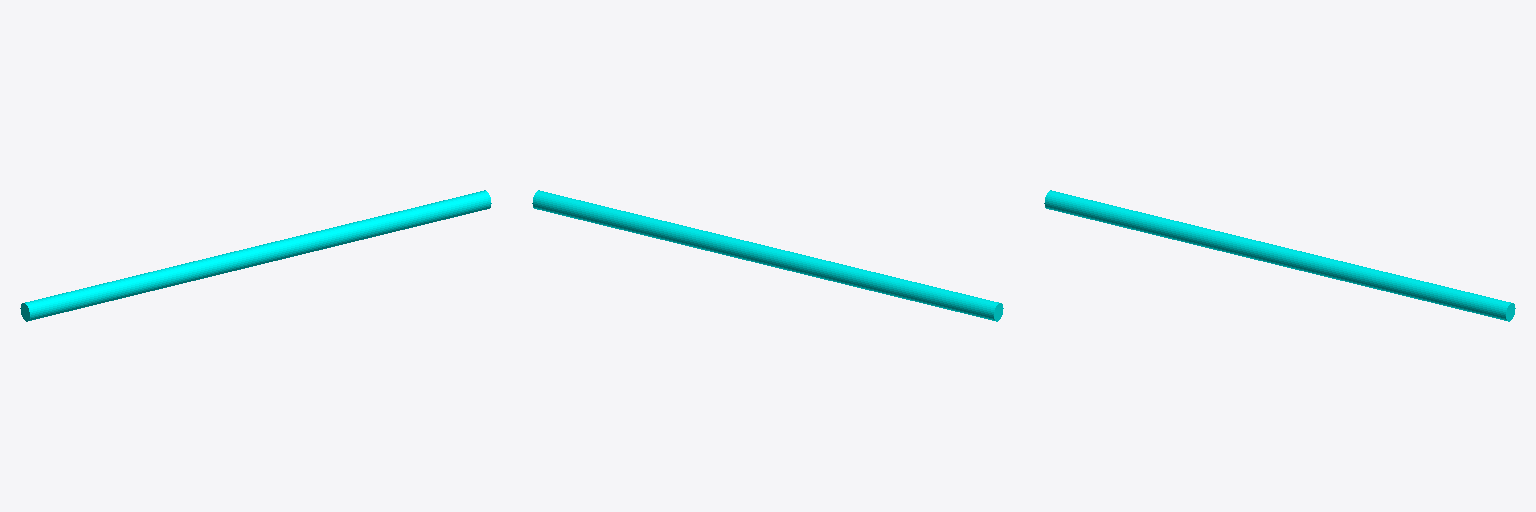
The robot description file, URDF, robot "rr_bot":
<?xml version="1.0" ?>
<robot name="rr_bot">
    <link name="base_link" />
    <link name="link1">
        <visual>
            <origin rpy="0 1.57079 0" xyz="0.07 0 0"/>
            <geometry>
                <cylinder length="0.14" radius=".005"/>
            </geometry>
            <material name="Cyan">
                <color rgba="0 1.0 1.0 1.0"/>
            </material>
        </visual>
    </link>
    <link name="link2">
        <visual>
            <origin rpy="0 1.57079 0" xyz="0.07 0 0"/>
            <geometry>
                <cylinder length="0.14" radius="0.005"/>
            </geometry>
            <material name="Cyan">
                <color rgba="0 1.0 1.0 1.0"/>
            </material>
        </visual>
    </link>
    <link name="link3" />
    <joint name="joint1" type="revolute">
        <parent link="base_link"/>
        <child link="link1"/>
        <origin rpy="0 0 0" xyz="0 0 0"/>
        <axis xyz="0 0 1"/>
        <limit effort="1" lower="-2.9" upper="2.9" velocity="2" />
    </joint>
    <joint name="joint2" type="revolute">
        <parent link="link1"/>
        <child link="link2"/>
        <origin rpy="0 0 0" xyz="0.14 0 0"/>
        <axis xyz="0 0 1"/>
        <limit effort="1" lower="-2.9" upper="2.9" velocity="2" />
    </joint>
    <joint name="end_effector" type="fixed">
        <parent link="link2"/>
        <child link="link3"/>
        <origin rpy="0 0 0" xyz="0.14 0 0"/>
    </joint>
</robot>

--- Facts derived from the render (not from the file) ---
3 views of the same robot in one strip: view 1: azimuth 30°, elevation 25°; view 2: azimuth 150°, elevation 25°; view 3: azimuth 330°, elevation 25° (orthographic).
Model rr_bot with 4 links and 3 joints (2 revolute, 1 fixed), rooted at base_link, posed all joints at 0.
Visible links, largest first — view 1: link1, link2; view 2: link1, link2; view 3: link2, link1.
Boxes of the visible links, box(x1,y1,x2,y2) form: link1: box(20, 247, 260, 321); link2: box(255, 190, 491, 264); link1: box(763, 247, 1003, 321); link2: box(532, 190, 768, 264); link2: box(1275, 247, 1515, 321); link1: box(1044, 190, 1280, 264).
Bounding box of the posed robot: 0.28 × 0.01 × 0.01 m (x, y, z).
Geometry: primitives only (box / cylinder / sphere), no mesh files.
